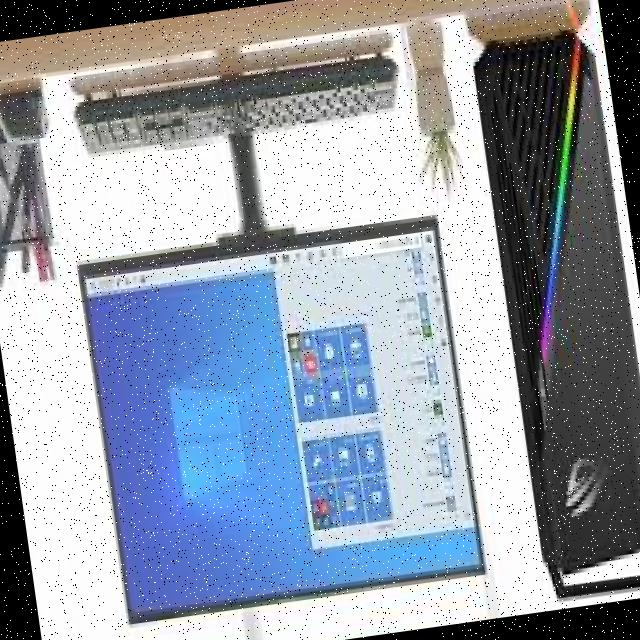Computer: (458, 0, 640, 612)
Monitor: (65, 198, 497, 638)
